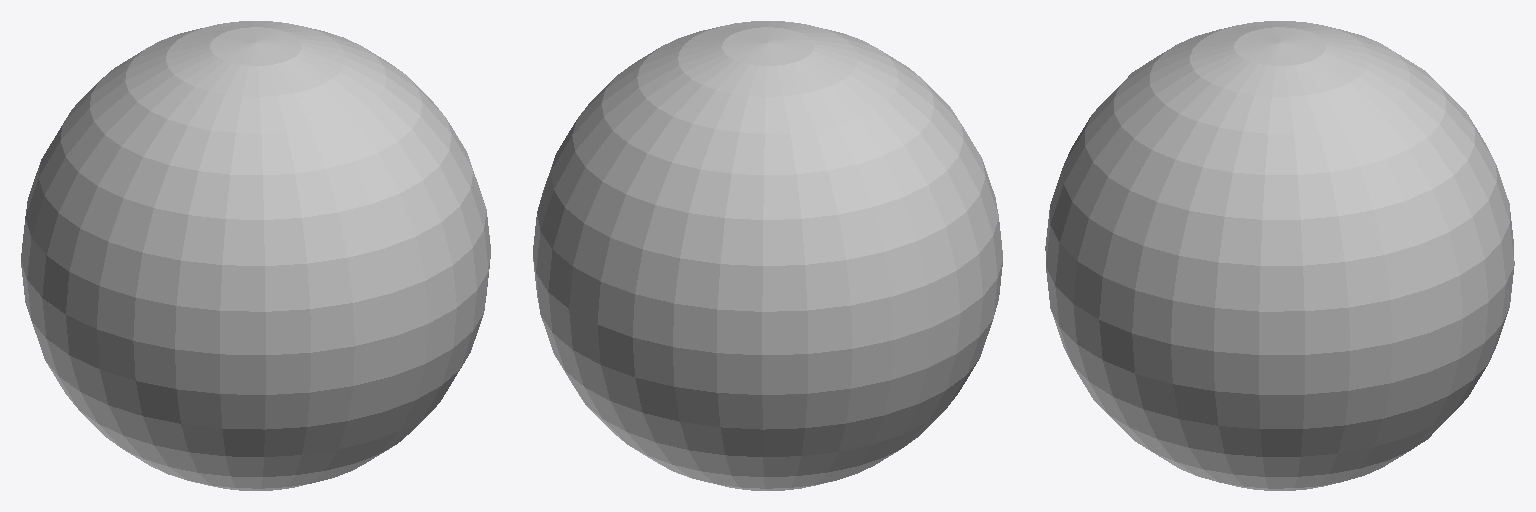
File: mercury.obj
3 views of the same model, side by side, from view 1: azimuth 30°, elevation 25°; view 2: azimuth 150°, elevation 25°; view 3: azimuth 270°, elevation 25° (orthographic).
Visible parts, largest first — view 1: Mercury_Sphere.002; view 2: Mercury_Sphere.002; view 3: Mercury_Sphere.002.
Boxes of the visible parts, <box> form: Mercury_Sphere.002: <box>21,21,490,490</box>; Mercury_Sphere.002: <box>533,21,1002,490</box>; Mercury_Sphere.002: <box>1045,21,1514,490</box>.
Bounding box in the file's own units: 0.3486 × 0.35 × 0.3486.